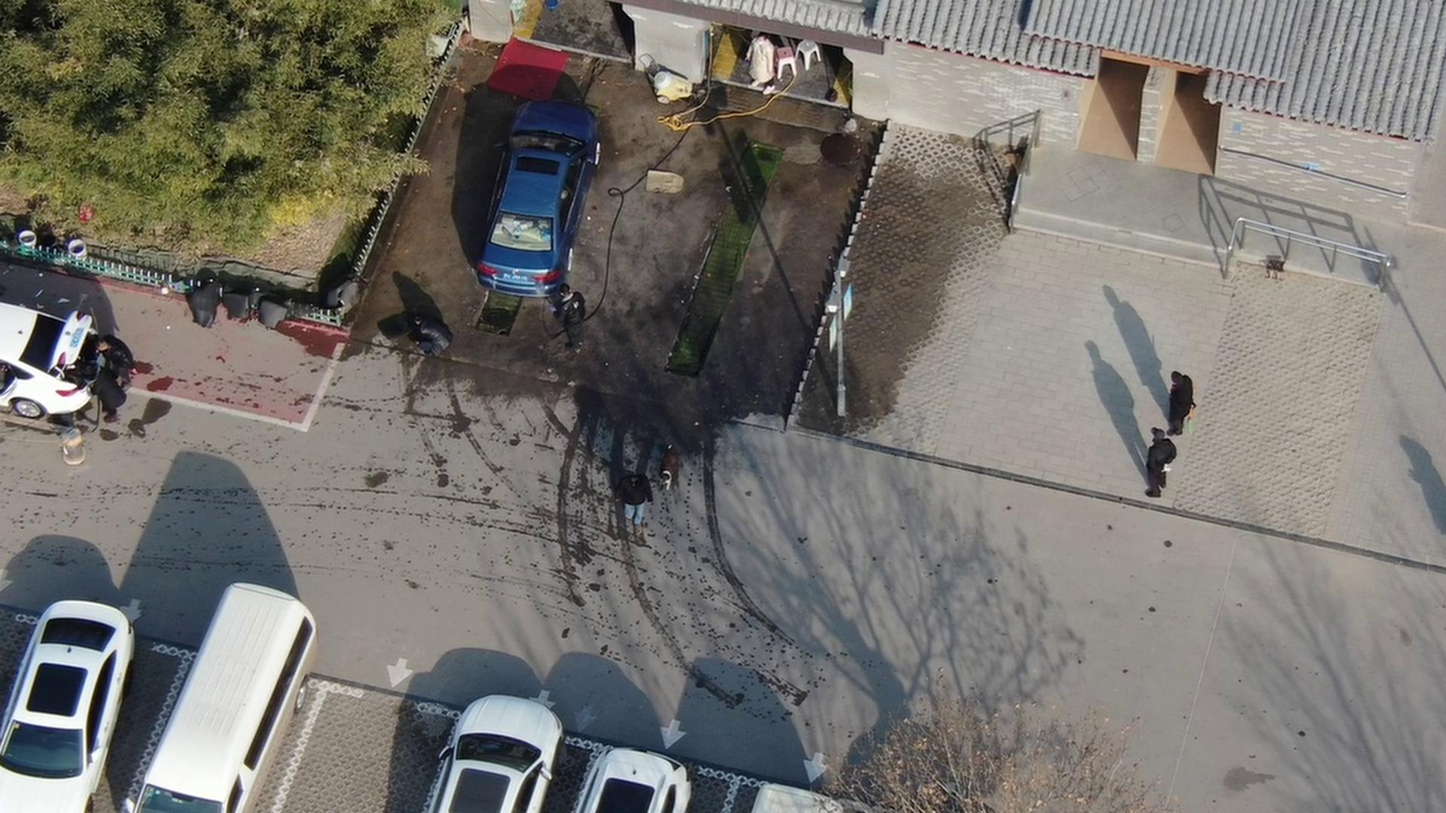human: (613, 466, 657, 539), (1142, 428, 1179, 510), (86, 354, 127, 422), (555, 274, 587, 358), (1164, 367, 1197, 446), (101, 321, 142, 382), (740, 28, 779, 90), (411, 306, 459, 354)
